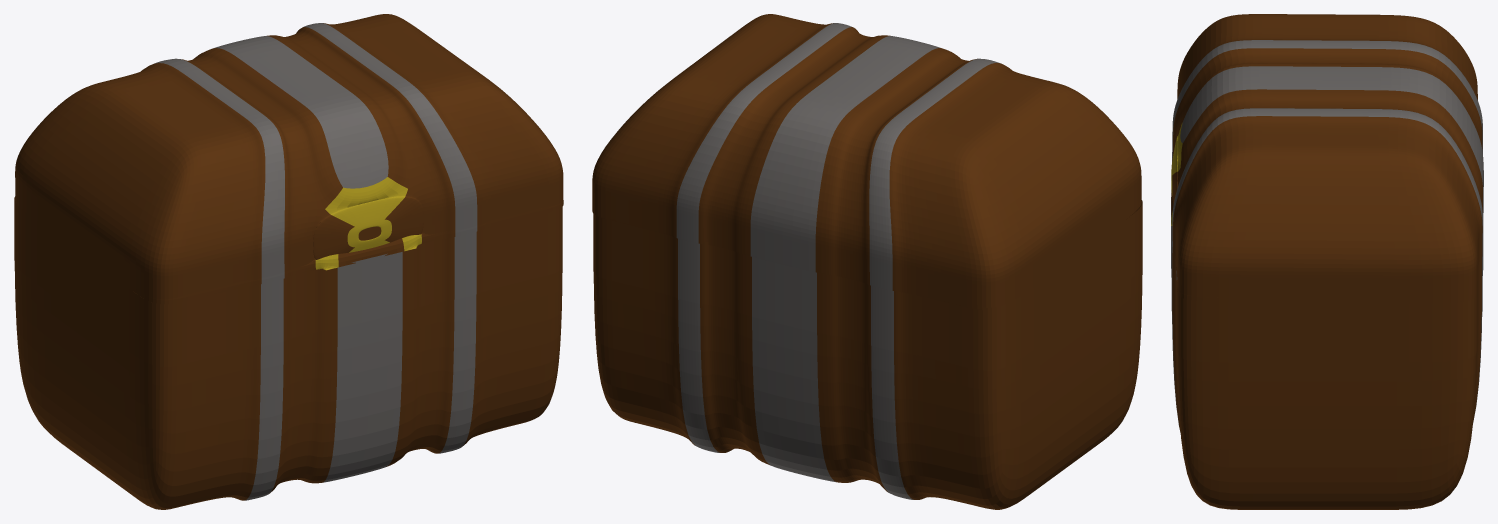
The model's file is TreasureChest.fbx.
The picture shows the model from 3 angles, left to right: view 1: azimuth 30°, elevation 25°; view 2: azimuth 150°, elevation 25°; view 3: azimuth 270°, elevation 25°; orthographic projection. The views are drawn at different scales.
Parts seen in each view (by area): view 1: cuepro, tapa; view 2: cuepro, tapa; view 3: tapa, cuepro.
Part boxes in pixels (bbox=[...]): cuepro: bbox=[14, 196, 562, 509]; tapa: bbox=[15, 14, 563, 304]; cuepro: bbox=[593, 200, 1142, 509]; tapa: bbox=[592, 14, 1141, 310]; tapa: bbox=[1171, 14, 1483, 303]; cuepro: bbox=[1171, 152, 1483, 509].
Bounding box in the file's own units: 314 × 260 × 208.
